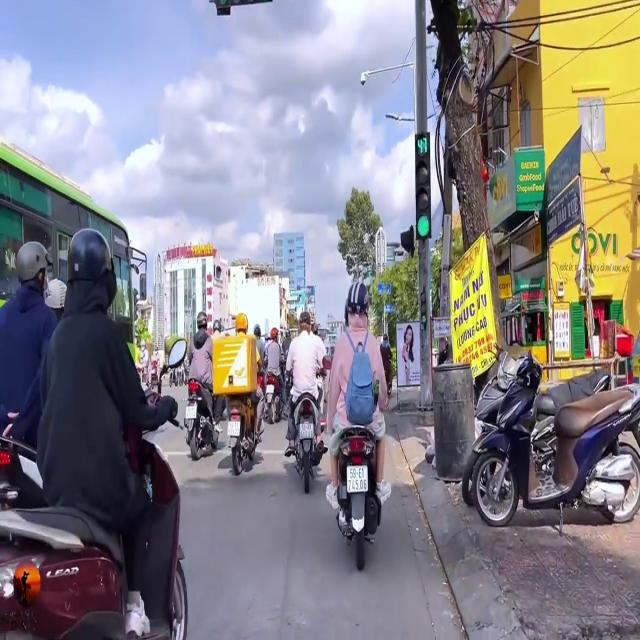bien_trang: (347, 468, 367, 489)
